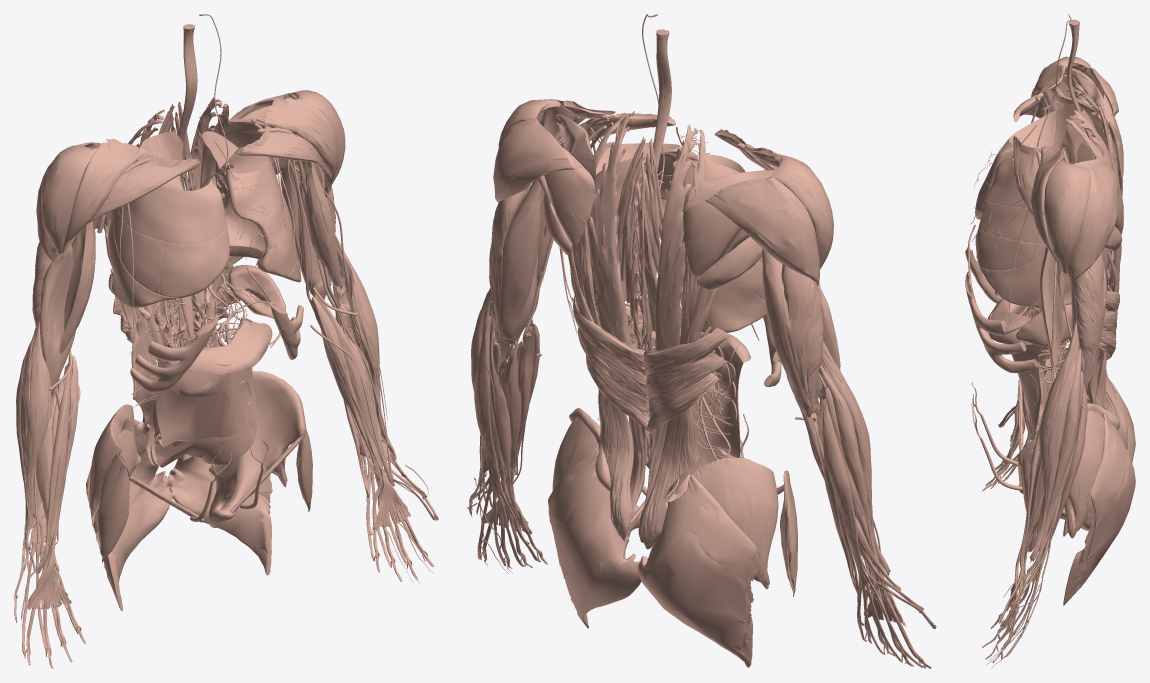
Rendered from male-unclassified-height-upper-middle.glb.
The picture shows the model from 3 angles, left to right: view 1: azimuth 30°, elevation 25°; view 2: azimuth 150°, elevation 25°; view 3: azimuth 270°, elevation 25°; orthographic projection. The views are drawn at different scales.
Parts seen in each view (by area): view 1: FMA19757, FMA236884, FMA27373, FMA22329, FMA22328, FMA38486, FMA27448, FMA34680, FMA34682, FMA37668, FMA27374, FMA34681 (+42 smaller); view 2: FMA22328, FMA22329, FMA34684, FMA22753, FMA22751, FMA22330, FMA13405, FMA13406, FMA19757, FMA22740, FMA37700, FMA34685 (+42 smaller); view 3: FMA22329, FMA34683, FMA38487, FMA34685, FMA37698, FMA19757, FMA22331, FMA37685, FMA27392, FMA27376, FMA27375, FMA38496 (+48 smaller).
Boxes of the visible parts, x1,y1,x2,y2 form: FMA19757: (155, 320, 272, 467); FMA236884: (208, 371, 305, 527); FMA27373: (119, 178, 227, 244); FMA22329: (168, 454, 272, 575); FMA22328: (86, 406, 173, 611); FMA38486: (20, 312, 51, 552); FMA27448: (159, 228, 229, 297); FMA34680: (62, 138, 147, 253); FMA34682: (41, 145, 97, 254); FMA37668: (40, 244, 75, 396); FMA27374: (220, 146, 279, 223); FMA34681: (264, 96, 337, 191); FMA22328: (638, 474, 760, 667); FMA22329: (548, 452, 641, 628); FMA34684: (703, 176, 819, 285); FMA22753: (588, 111, 649, 520); FMA22751: (643, 124, 698, 508); FMA22330: (694, 457, 778, 584); FMA13405: (643, 327, 728, 431); FMA13406: (573, 295, 648, 431); FMA19757: (628, 322, 750, 502); FMA22740: (638, 286, 717, 549); FMA37700: (498, 179, 544, 340); FMA34685: (493, 118, 581, 202); FMA22329: (1063, 413, 1135, 605); FMA34683: (1044, 160, 1090, 273); FMA38487: (1029, 316, 1079, 562); FMA34685: (1067, 165, 1118, 285); FMA37698: (1073, 254, 1106, 389); FMA19757: (988, 298, 1045, 439); FMA22331: (1068, 410, 1104, 534); FMA37685: (1040, 246, 1064, 367); FMA27392: (980, 251, 1067, 306); FMA27376: (975, 228, 1045, 270); FMA27375: (978, 200, 1044, 244); FMA38496: (1031, 348, 1081, 582).
Bounding box in the file's own units: 0.6388 × 0.8423 × 0.2297.
